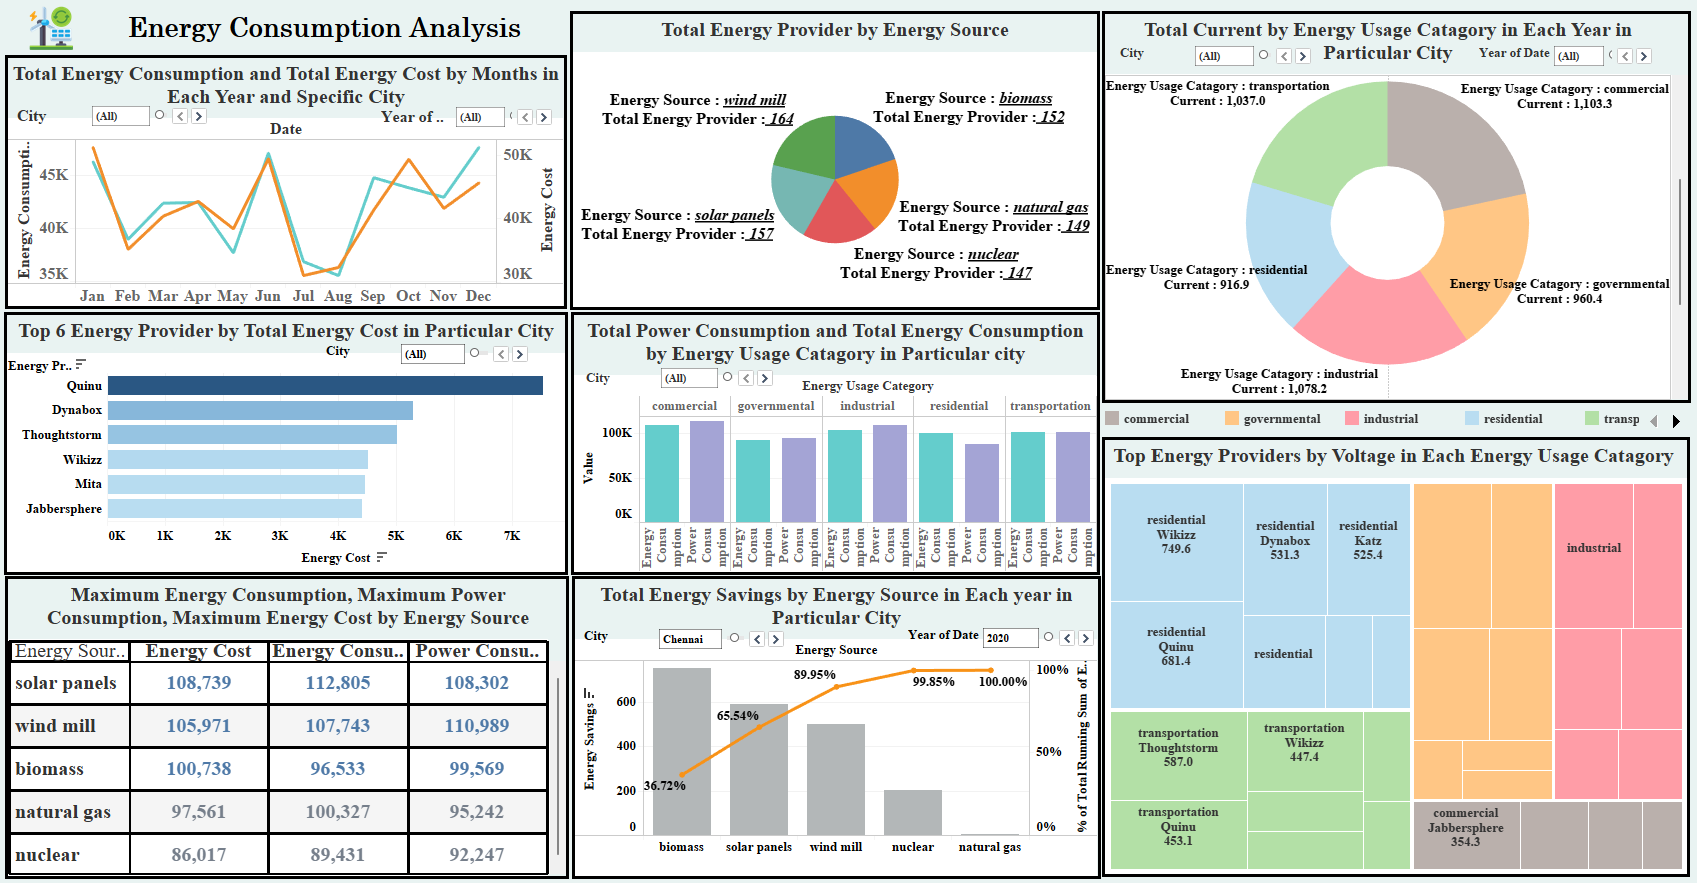

The page's visual inventory and layout, read from the dashboard file:
{"tool":"tableau","page":{"name":"Dashboard","canvas":[1000,1000],"units":"permille","ordinal":0},"visuals":[{"type":"image","param":"C:/GAMAKA AI/Tableu videos my batch/Project - Energy Consumption Dataset/Project","box":[22.8,17.9,60.3,51.3]},{"type":"text","box":[59.1,23.4,273.8,36.8]},{"type":"worksheet","title":"Total Energy Provider by Energy Source","mark":"Pie","box":[340,24.6,310.1,333.7]},{"type":"worksheet","title":"Total Current by Energy Usage Catagory in Each Year in Particular City","mark":"Pie","cols":["Calculation_1613133143323574276","Calculation_1613133143323574276"],"box":[651.3,24.6,344.7,437.5]},{"type":"filter","title":"Total Current by Energy Usage Catagory in Each Year in Particular City","param":"[federated.0vc9u230jjzczv1eaydb709ujo6g].[none:city:nk]","box":[661.8,60.3,114.1,32.4]},{"type":"filter","title":"Total Current by Energy Usage Catagory in Each Year in Particular City","param":"[federated.0vc9u230jjzczv1eaydb709ujo6g].[yr:timestamp:ok]","box":[871.9,60.3,103.6,33.5]},{"type":"worksheet","title":"Total Energy Consumption and Total Energy Cost by Months in Each Year and Specific City","mark":"Automatic","rows":["energy_consumption","energy_cost"],"cols":["timestamp"],"box":[9.4,73.7,328.9,283.5]},{"type":"filter","title":"Total Energy Consumption and Total Energy Cost by Months in Each Year and Specific City","param":"[federated.0vc9u230jjzczv1eaydb709ujo6g].[none:city:nk]","box":[16.4,130.6,113.5,22.3]},{"type":"filter","title":"Total Energy Consumption and Total Energy Cost by Months in Each Year and Specific City","param":"[federated.0vc9u230jjzczv1eaydb709ujo6g].[yr:timestamp:ok]","box":[229.4,131.7,102.4,27.9]},{"type":"worksheet","title":"Top 6 Energy Provider by Total Energy Cost in Particular City","mark":"Automatic","rows":["energy_provider"],"cols":["energy_cost"],"box":[8.8,360.5,330,293.5]},{"type":"worksheet","title":"Total Power Consumption and Total Energy Consumption by Energy Usage Catagory in Particular city","mark":"Automatic","cols":["energy_usage_category"],"box":[340.6,360.5,309.5,293.5]},{"type":"filter","title":"Top 6 Energy Provider by Total Energy Cost in Particular City","param":"[federated.0vc9u230jjzczv1eaydb709ujo6g].[none:city:nk]","box":[197.2,392.9,120.5,30.1]},{"type":"filter","title":"Total Power Consumption and Total Energy Consumption by Energy Usage Catagory in Particular city","param":"[federated.0vc9u230jjzczv1eaydb709ujo6g].[none:city:nk]","box":[349.3,423,111.8,25.7]},{"type":"legend","title":"Total Current by Energy Usage Catagory in Each Year in Particular City","param":"[federated.0vc9u230jjzczv1eaydb709ujo6g].[none:energy_usage_category:nk]","box":[651.3,467.6,343.5,29]},{"type":"worksheet","title":"Top Energy Providers by Voltage in Each Energy Usage Catagory ","mark":"Automatic","box":[651.3,500,344.1,491.1]},{"type":"worksheet","title":"Maximum Energy Consumption, Maximum Power Consumption, Maximum Energy Cost by Energy Source","mark":"Automatic","rows":["energy_source"],"box":[9.4,655.1,330,338.2]},{"type":"worksheet","title":"Total Energy Savings by Energy Source in Each year in Particular City","mark":"Automatic","rows":["energy_savings","energy_savings"],"cols":["energy_source"],"box":[341.1,655.1,309.5,338.2]},{"type":"filter","title":"Total Energy Savings by Energy Source in Each year in Particular City","param":"[federated.0vc9u230jjzczv1eaydb709ujo6g].[yr:timestamp:ok]","box":[537.7,709.8,111.2,30.1]},{"type":"filter","title":"Total Energy Savings by Energy Source in Each year in Particular City","param":"[federated.0vc9u230jjzczv1eaydb709ujo6g].[none:city:nk]","box":[348.2,710.9,119.4,30.1]}]}

Visuals, with their boxes on the dashboard's canvas, which has no fixed pixel size, in thousandths of its width and height (x1, y1, x2, y2). These are canvas units, not pixel positions in the 1697x883 screenshot, which may show the page scaled, cropped or inside an application window:
image: l=23, t=18, r=83, b=69
text: l=59, t=23, r=333, b=60
"Total Energy Provider by Energy Source" worksheet (Pie marks): l=340, t=25, r=650, b=358
"Total Current by Energy Usage Catagory in Each Year in Particular City" worksheet (Pie marks): l=651, t=25, r=996, b=462
"Total Current by Energy Usage Catagory in Each Year in Particular City" filter: l=662, t=60, r=776, b=93
"Total Current by Energy Usage Catagory in Each Year in Particular City" filter: l=872, t=60, r=976, b=94
"Total Energy Consumption and Total Energy Cost by Months in Each Year and Specific City" worksheet: l=9, t=74, r=338, b=357
"Total Energy Consumption and Total Energy Cost by Months in Each Year and Specific City" filter: l=16, t=131, r=130, b=153
"Total Energy Consumption and Total Energy Cost by Months in Each Year and Specific City" filter: l=229, t=132, r=332, b=160
"Top 6 Energy Provider by Total Energy Cost in Particular City" worksheet: l=9, t=360, r=339, b=654
"Total Power Consumption and Total Energy Consumption by Energy Usage Catagory in Particular city" worksheet: l=341, t=360, r=650, b=654
"Top 6 Energy Provider by Total Energy Cost in Particular City" filter: l=197, t=393, r=318, b=423
"Total Power Consumption and Total Energy Consumption by Energy Usage Catagory in Particular city" filter: l=349, t=423, r=461, b=449
"Total Current by Energy Usage Catagory in Each Year in Particular City" legend: l=651, t=468, r=995, b=497
"Top Energy Providers by Voltage in Each Energy Usage Catagory " worksheet: l=651, t=500, r=995, b=991
"Maximum Energy Consumption, Maximum Power Consumption, Maximum Energy Cost by Energy Source" worksheet: l=9, t=655, r=339, b=993
"Total Energy Savings by Energy Source in Each year in Particular City" worksheet: l=341, t=655, r=651, b=993
"Total Energy Savings by Energy Source in Each year in Particular City" filter: l=538, t=710, r=649, b=740
"Total Energy Savings by Energy Source in Each year in Particular City" filter: l=348, t=711, r=468, b=741
